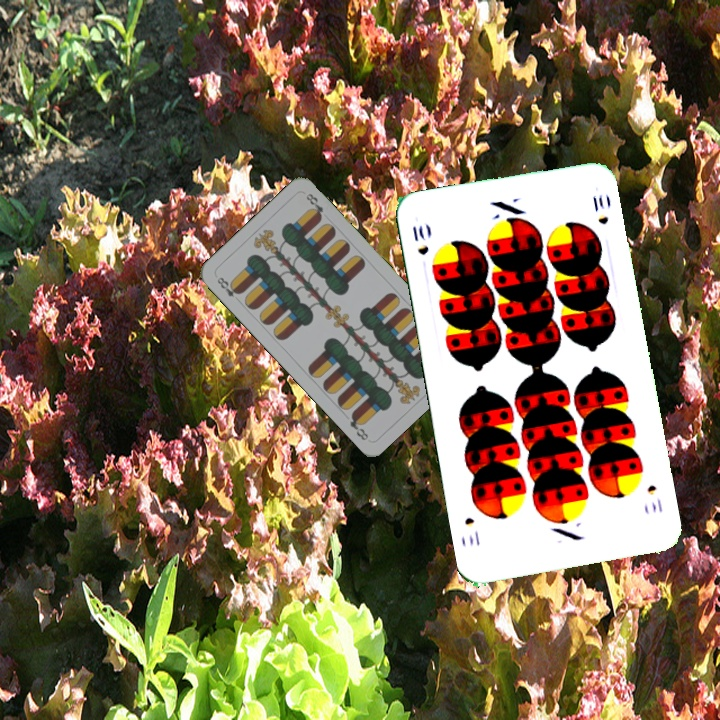E8: (213, 273, 244, 299)
S10: (408, 222, 431, 258), (643, 481, 665, 515)
